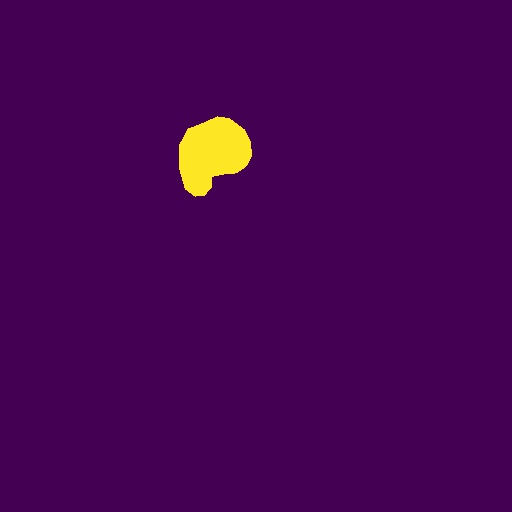Gliomia_tumour: (179, 116, 252, 197)
